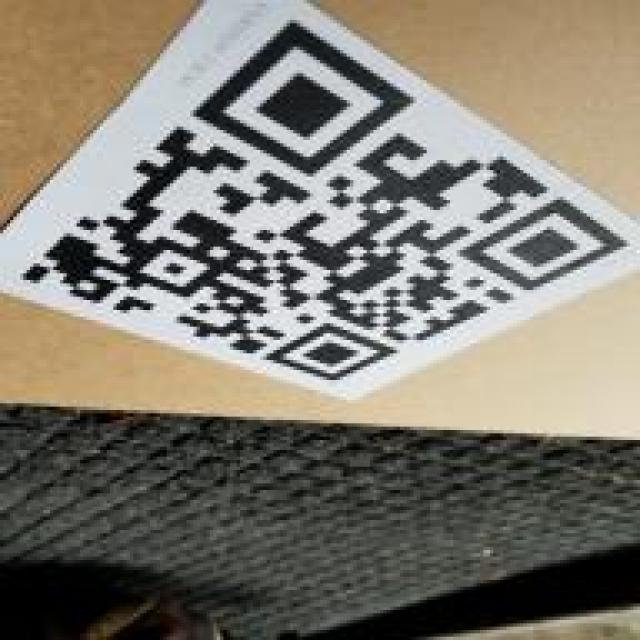QR_CODE: (10, 12, 637, 390)
